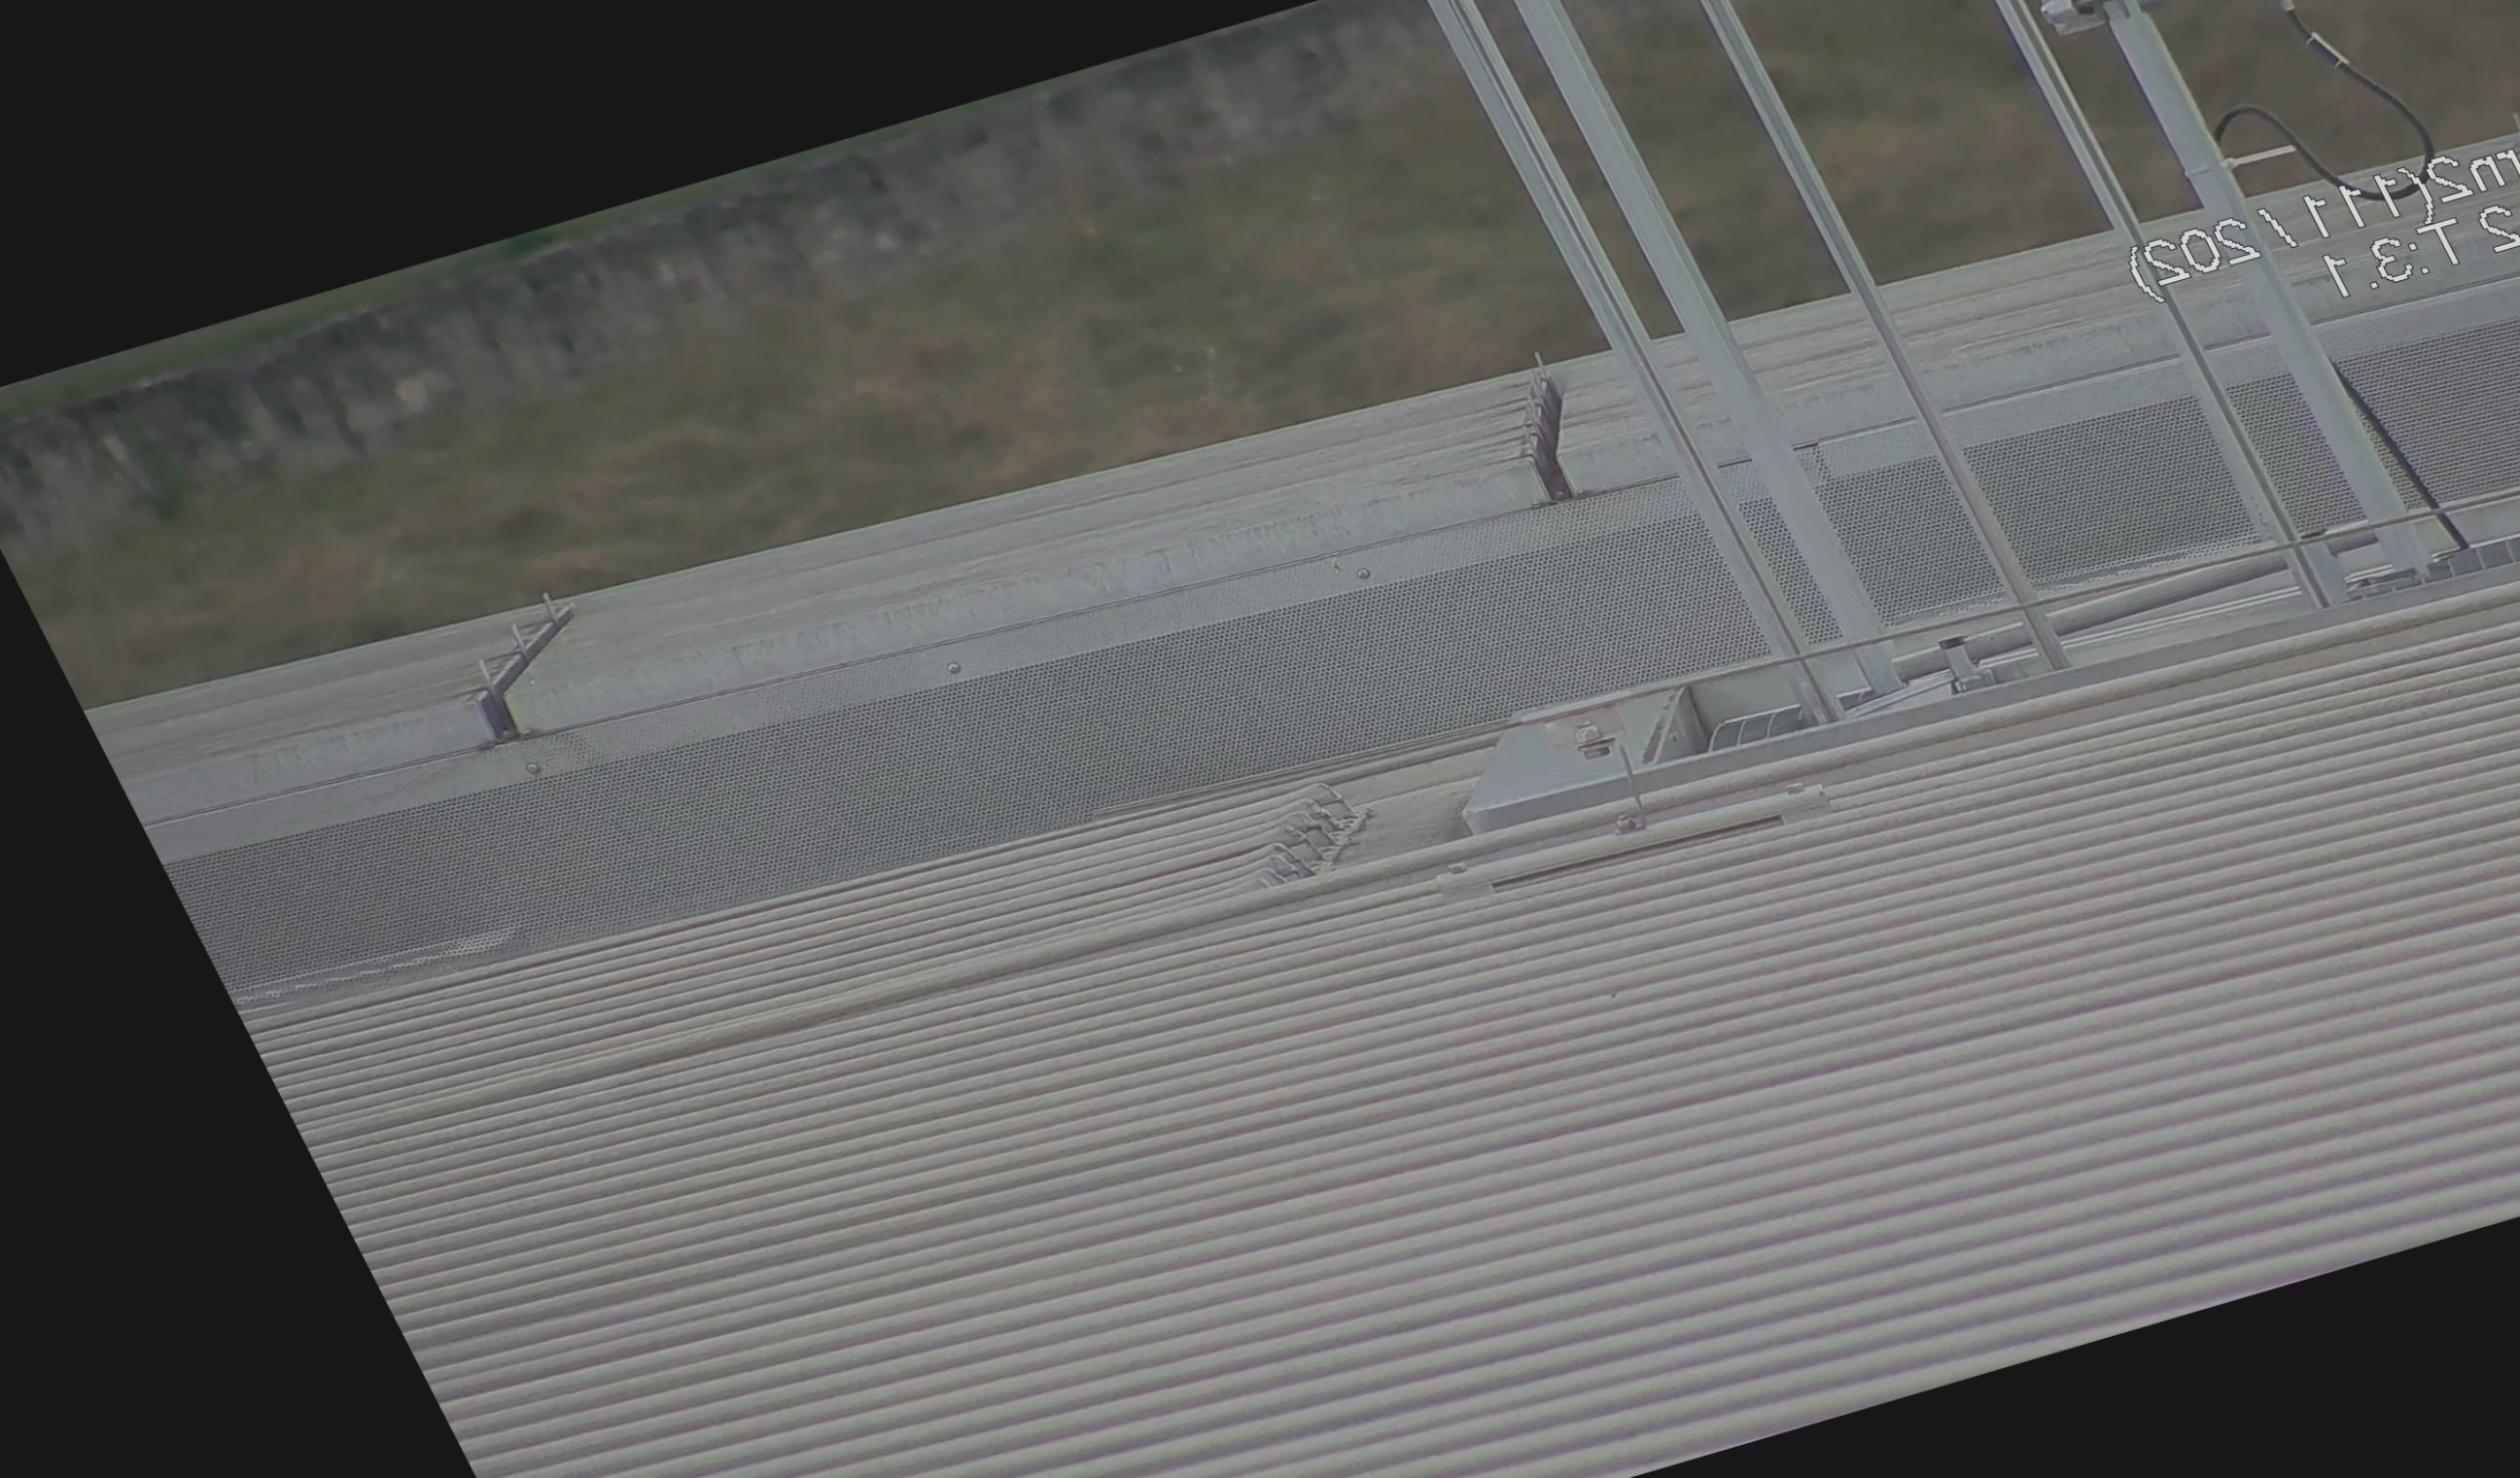Other: (1474, 348, 1632, 512)
